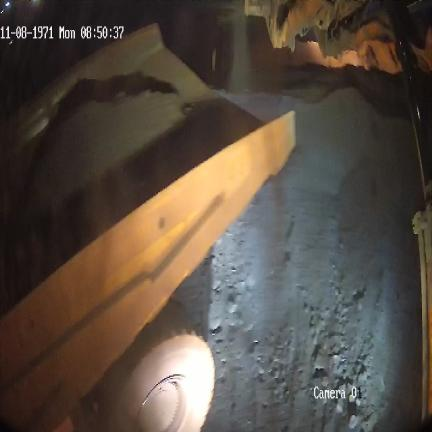pile: (29, 95, 185, 223)
